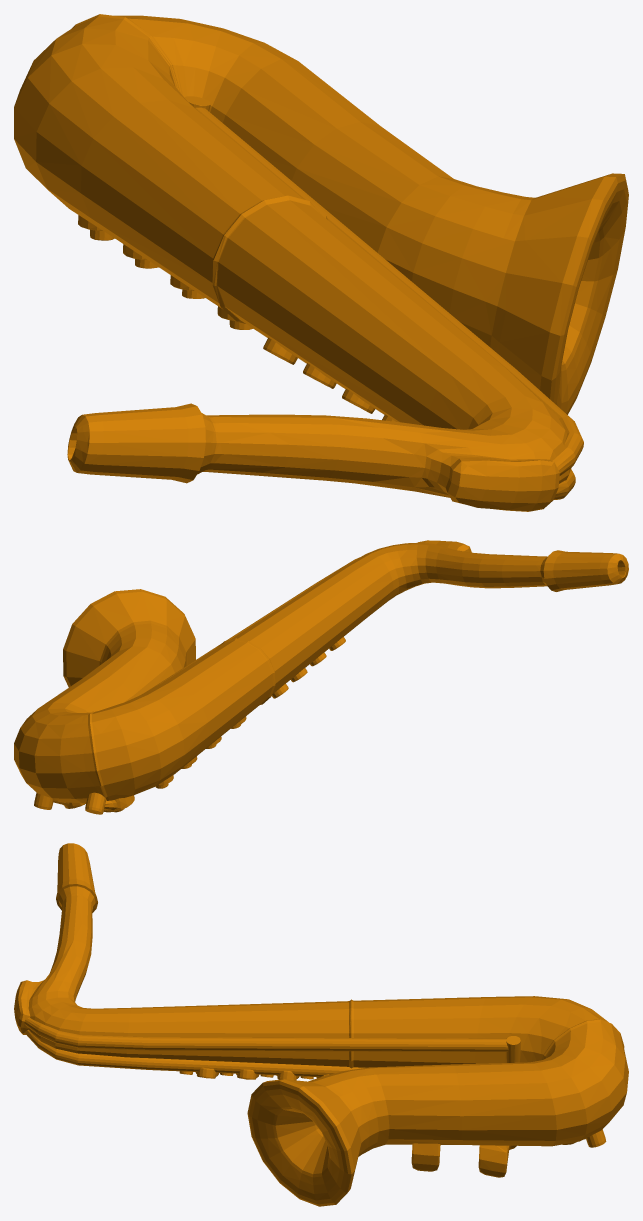
Rendered from sax.obj.
The picture shows the model from 3 angles, top to bottom: view 1: azimuth 30°, elevation 25°; view 2: azimuth 150°, elevation 25°; view 3: azimuth 270°, elevation 25°; orthographic projection. The views are drawn at different scales.
Parts seen in each view (by area): view 1: obj_0; view 2: obj_0; view 3: obj_0.
Boxes of the visible parts, x1,y1,x2,y2 form: obj_0: (14, 14, 628, 511); obj_0: (14, 540, 628, 814); obj_0: (14, 843, 628, 1206).
Size of the model in its own units: 49.18 by 19.15 by 60.27.
